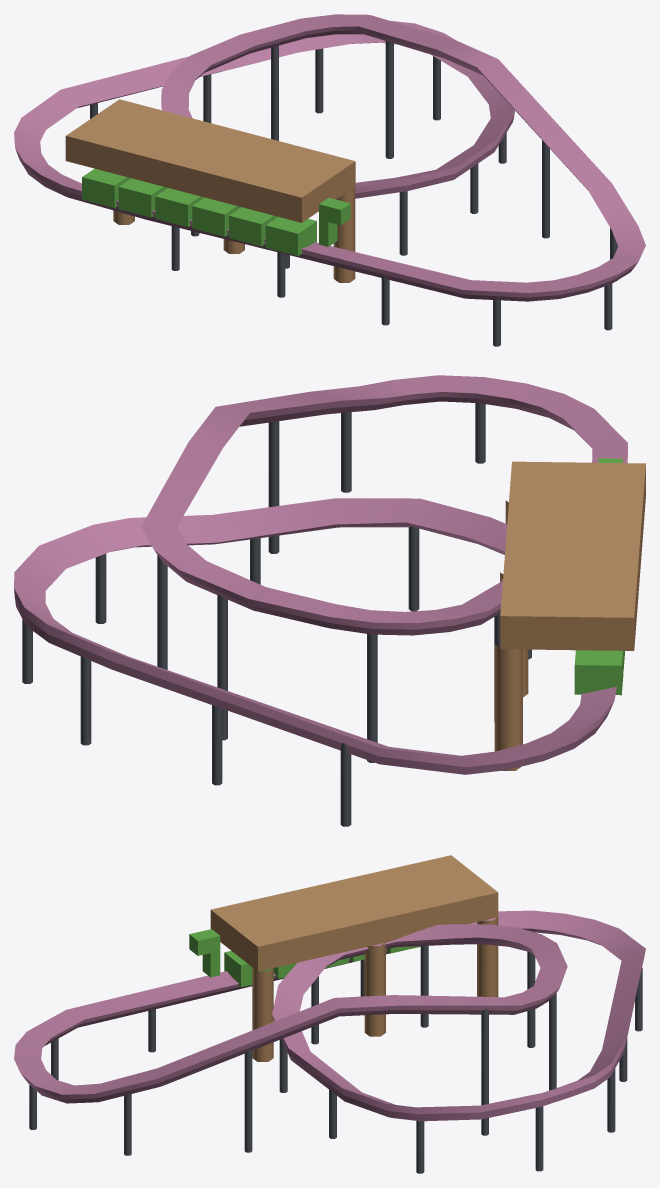
Rendered from nyc-sea-serpent.glb.
3 renders of one model, top to bottom at view 1: azimuth 30°, elevation 25°; view 2: azimuth 150°, elevation 25°; view 3: azimuth 270°, elevation 25°, orthographic. The views are drawn at different scales.
Visible parts, largest first — view 1: Sea Serpent; view 2: Sea Serpent; view 3: Sea Serpent.
Boxes of the visible parts, <box> form: Sea Serpent: <box>14,14,645,346</box>; Sea Serpent: <box>14,375,645,826</box>; Sea Serpent: <box>14,855,645,1173</box>.
Size of the model in its own units: 16.39 by 5.16 by 20.84.
